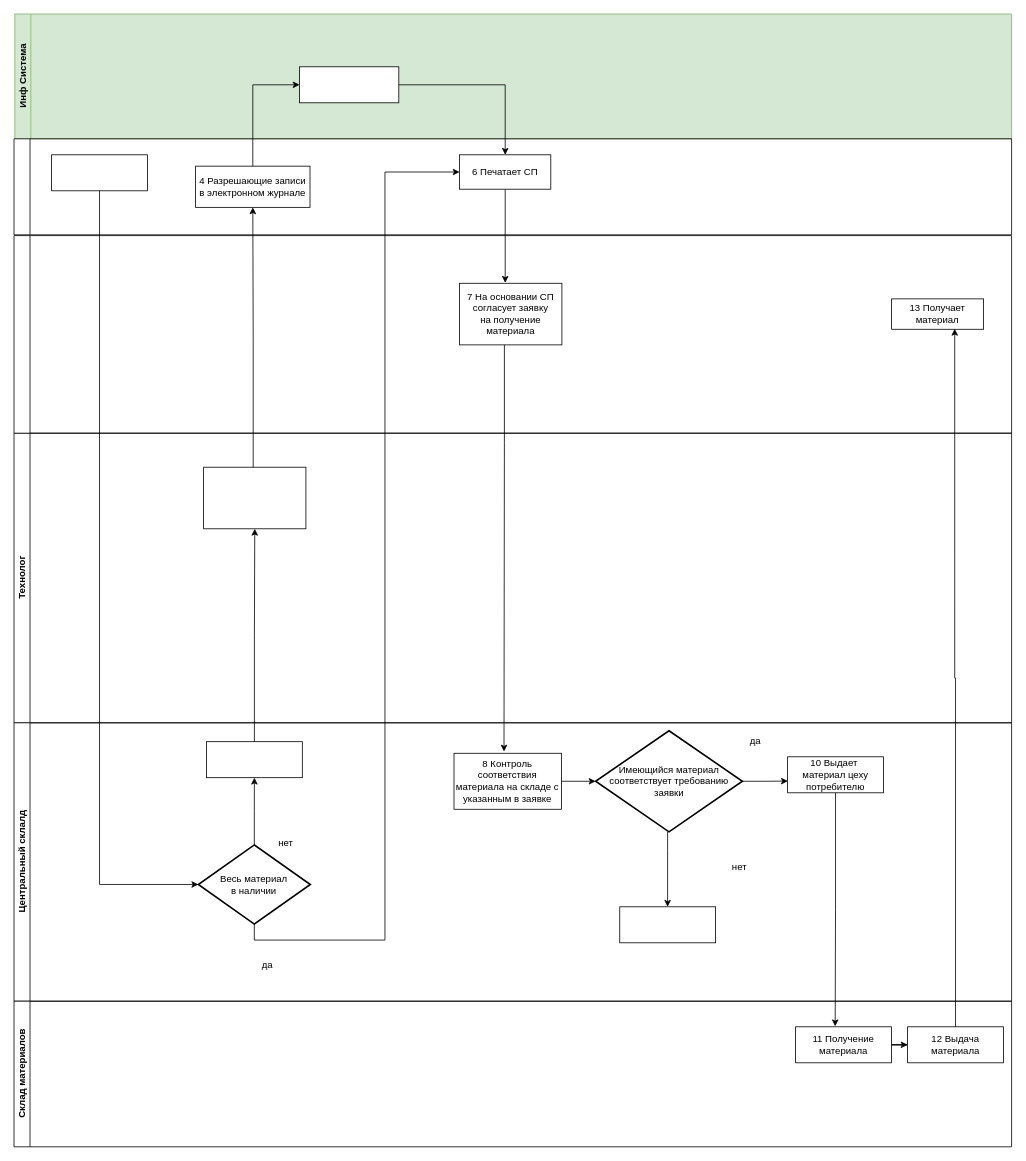
Some shapes in this 1026 by 1161 pixel diagram are drawn without their labels. The box of each missing label's shape, as (x1, y1, x2, y2) in pixels:
*5 Сохраняет в журнал учета разрешения: (299, 66, 399, 103)
1 Формирование заявки на материал: (51, 154, 147, 191)
2 Заявка на замену материала: (206, 741, 302, 778)
3 Рассмотрение предложения по замене материала: (203, 466, 306, 529)
9 Отклонение заявки: (619, 906, 716, 943)
Мастер: (13, 235, 1012, 433)
Пдг: (13, 138, 1012, 235)
